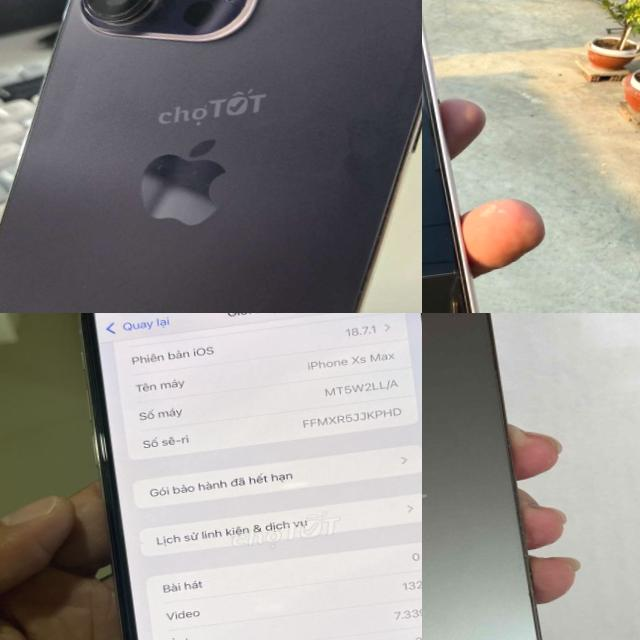gen_12_13: (422, 313, 556, 640), (422, 0, 491, 313)
gen_14: (0, 0, 422, 313)
gen_x_xs: (64, 313, 422, 640)
